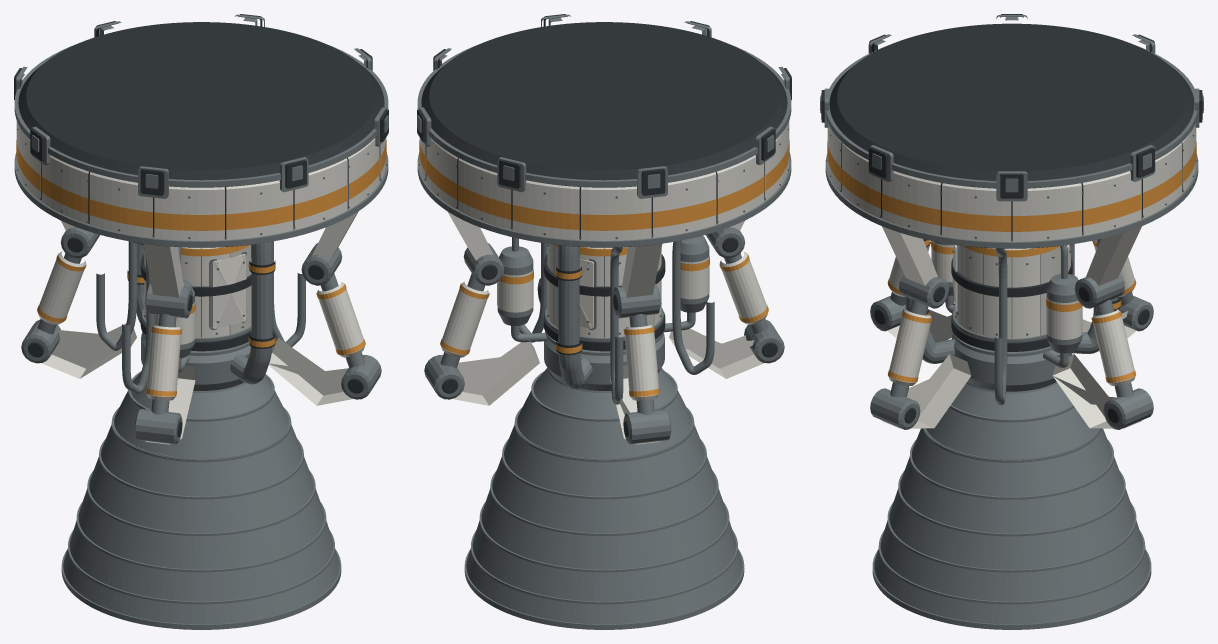
Rendered from engine_1.glb.
The picture shows the model from 3 angles, left to right: view 1: azimuth 30°, elevation 25°; view 2: azimuth 150°, elevation 25°; view 3: azimuth 270°, elevation 25°; orthographic projection.
Visible parts, largest first — view 1: Segmented attachment collar, Hollow ribbed nozzle bell, Four gimbal actuators, Ivory suspension frame, Combustion chamber and jacket, Curved feed pipes and return lines, Latches and fasteners, Auxiliary pumps and reservoirs; view 2: Segmented attachment collar, Hollow ribbed nozzle bell, Four gimbal actuators, Ivory suspension frame, Curved feed pipes and return lines, Combustion chamber and jacket, Auxiliary pumps and reservoirs, Latches and fasteners; view 3: Segmented attachment collar, Hollow ribbed nozzle bell, Four gimbal actuators, Combustion chamber and jacket, Ivory suspension frame, Auxiliary pumps and reservoirs, Latches and fasteners, Curved feed pipes and return lines.
Boxes of the visible parts, x1,y1,x2,y2 form: Segmented attachment collar: (14, 22, 388, 247); Hollow ribbed nozzle bell: (61, 371, 341, 629); Four gimbal actuators: (21, 227, 381, 444); Ivory suspension frame: (41, 211, 358, 444); Combustion chamber and jacket: (140, 245, 251, 390); Curved feed pipes and return lines: (96, 241, 305, 394); Latches and fasteners: (14, 14, 388, 334); Auxiliary pumps and reservoirs: (158, 247, 195, 372); Segmented attachment collar: (417, 22, 791, 247); Hollow ribbed nozzle bell: (464, 368, 744, 629); Four gimbal actuators: (424, 227, 784, 444); Ivory suspension frame: (447, 211, 764, 444); Curved feed pipes and return lines: (519, 240, 714, 404); Combustion chamber and jacket: (543, 244, 665, 390); Auxiliary pumps and reservoirs: (497, 235, 709, 342); Latches and fasteners: (417, 14, 791, 334); Segmented attachment collar: (825, 23, 1198, 248); Hollow ribbed nozzle bell: (872, 382, 1151, 629); Four gimbal actuators: (870, 240, 1153, 429); Combustion chamber and jacket: (951, 244, 1072, 391); Ivory suspension frame: (882, 226, 1141, 428); Auxiliary pumps and reservoirs: (931, 240, 1082, 367); Latches and fasteners: (820, 14, 1203, 335); Curved feed pipes and return lines: (903, 239, 1121, 405).
Bounding box in the file's own units: 1.98 × 2.71 × 1.98.
